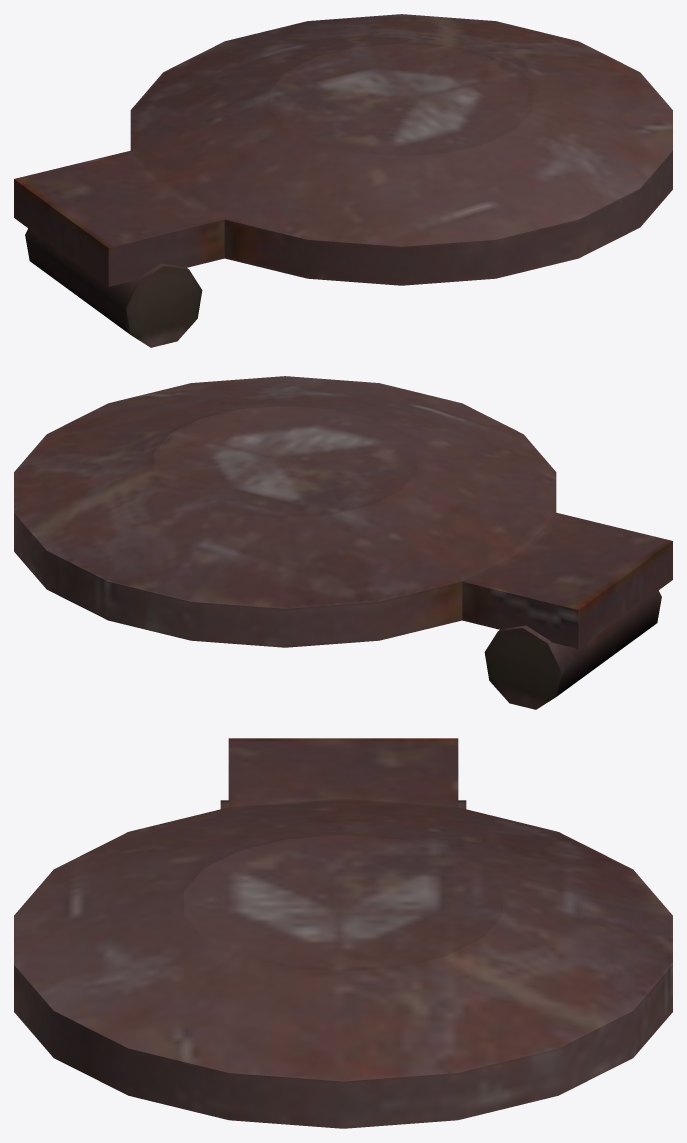
The model's file is Lid_02.FBX.
The picture shows the model from 3 angles, top to bottom: view 1: azimuth 30°, elevation 25°; view 2: azimuth 150°, elevation 25°; view 3: azimuth 270°, elevation 25°; orthographic projection. The views are drawn at different scales.
Visible parts, largest first — view 1: Lid_02; view 2: Lid_02; view 3: Lid_02.
Boxes of the visible parts, left/top/right/bottom form: Lid_02: left=14, top=14, right=672, bottom=347; Lid_02: left=14, top=376, right=672, bottom=709; Lid_02: left=14, top=738, right=672, bottom=1128.
Bounding box in the file's own units: 58.92 × 13.34 × 47.78.
